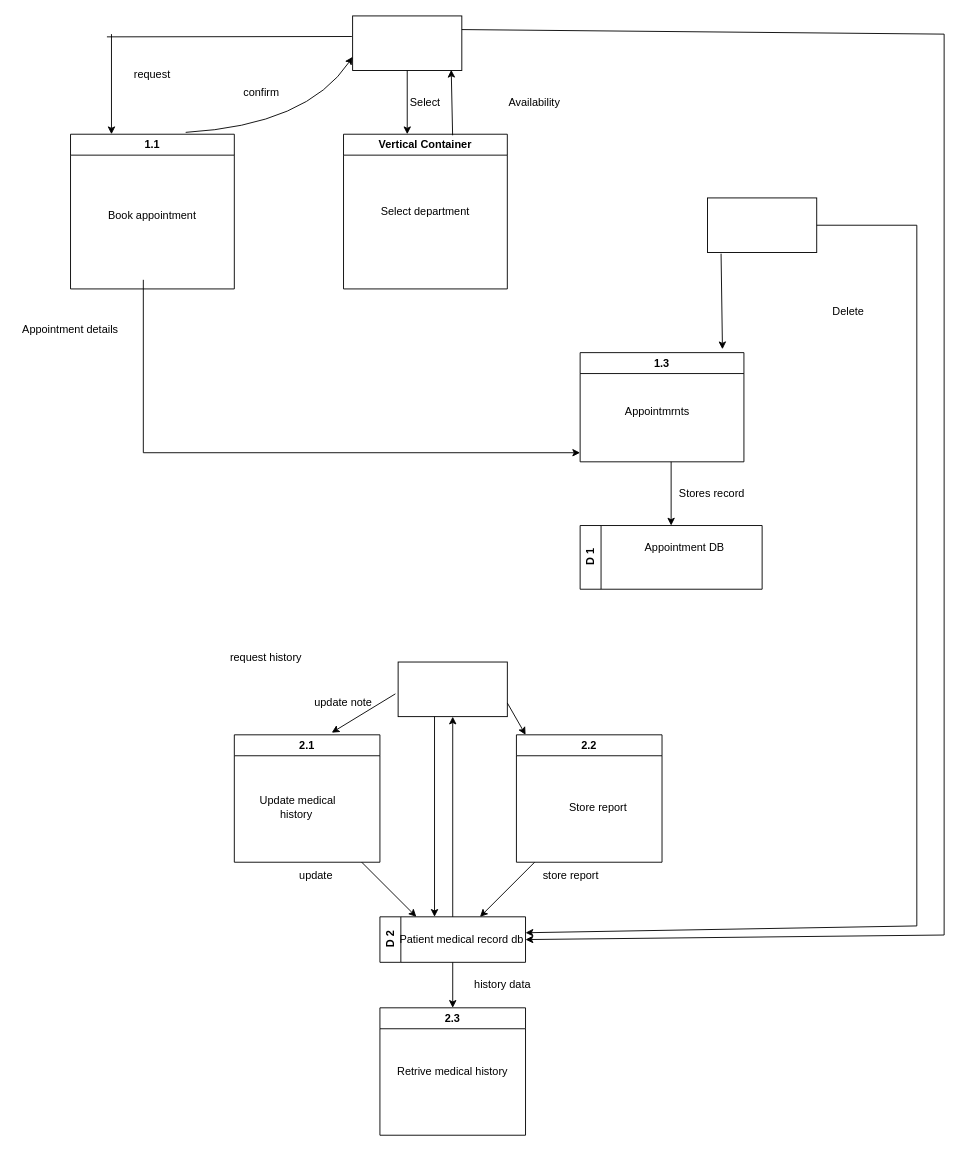
This 967x1151 diagram has some shape labels left out. Here are the shapes that lost their labels. From the top down, the centre of each, then its label:
At (x=407, y=43): "User".
At (x=762, y=225): "Admin".
At (x=452, y=689): "Doctor".
